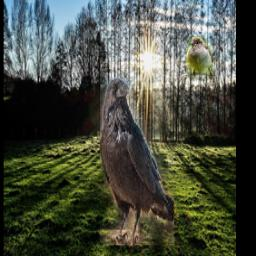Crow: (100, 79, 174, 246)
Sparrow: (186, 37, 213, 79)
